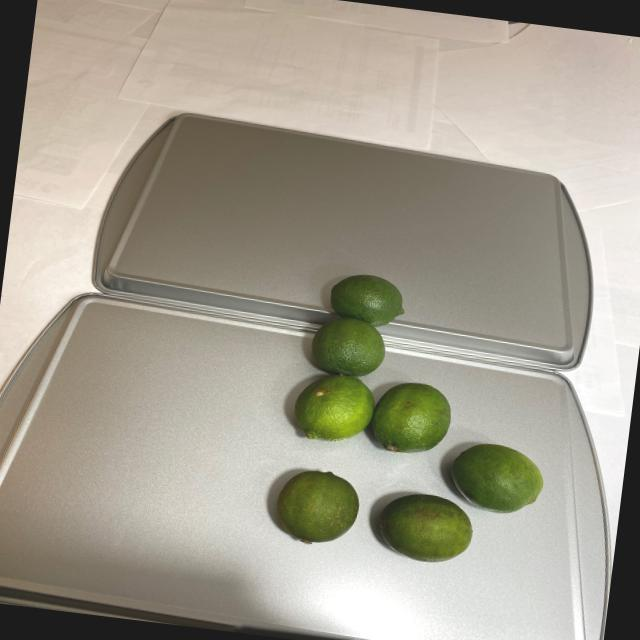lemon: (270, 263, 568, 585)
